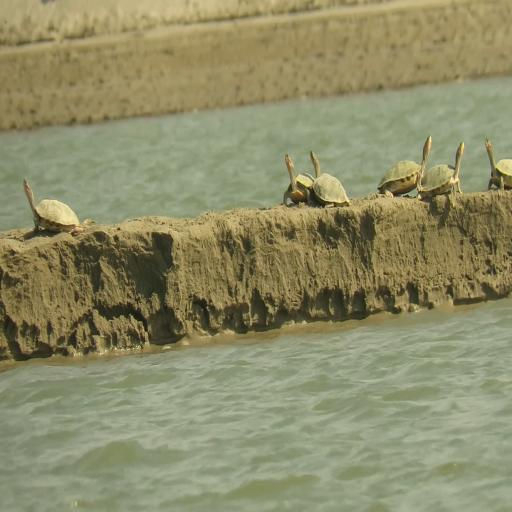turtle: (377, 132, 434, 202), (22, 176, 86, 238), (310, 137, 348, 223), (420, 137, 467, 201), (483, 133, 512, 198), (280, 146, 310, 205)
